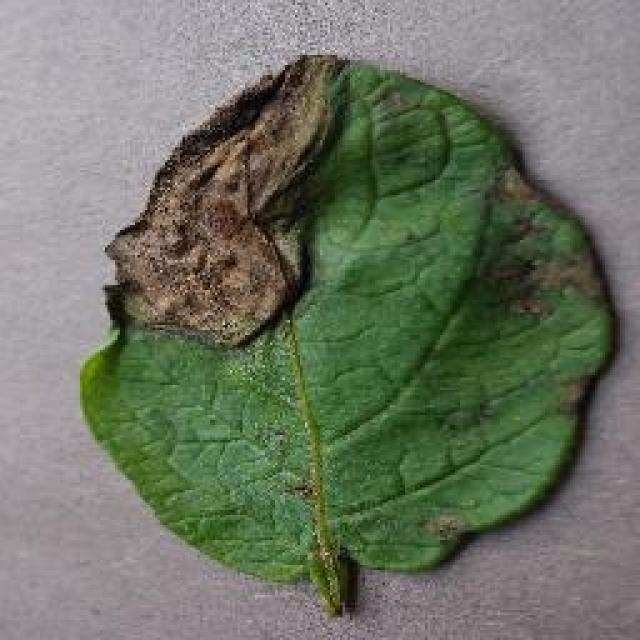late_blight: (75, 50, 620, 615)
